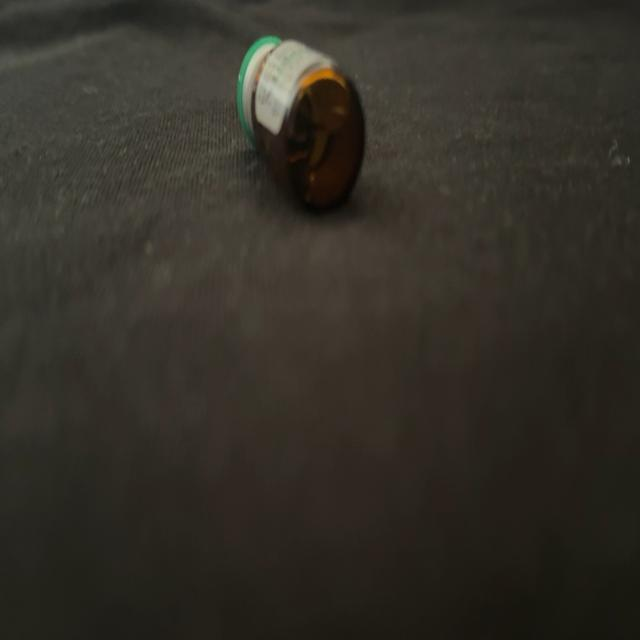midazolm: (239, 38, 363, 212)
